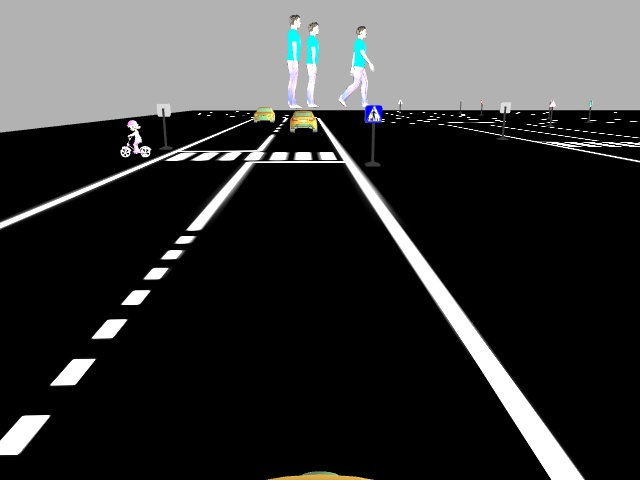Crosswalk: (364, 104, 383, 121)
Pedestrian: (118, 118, 152, 158)
